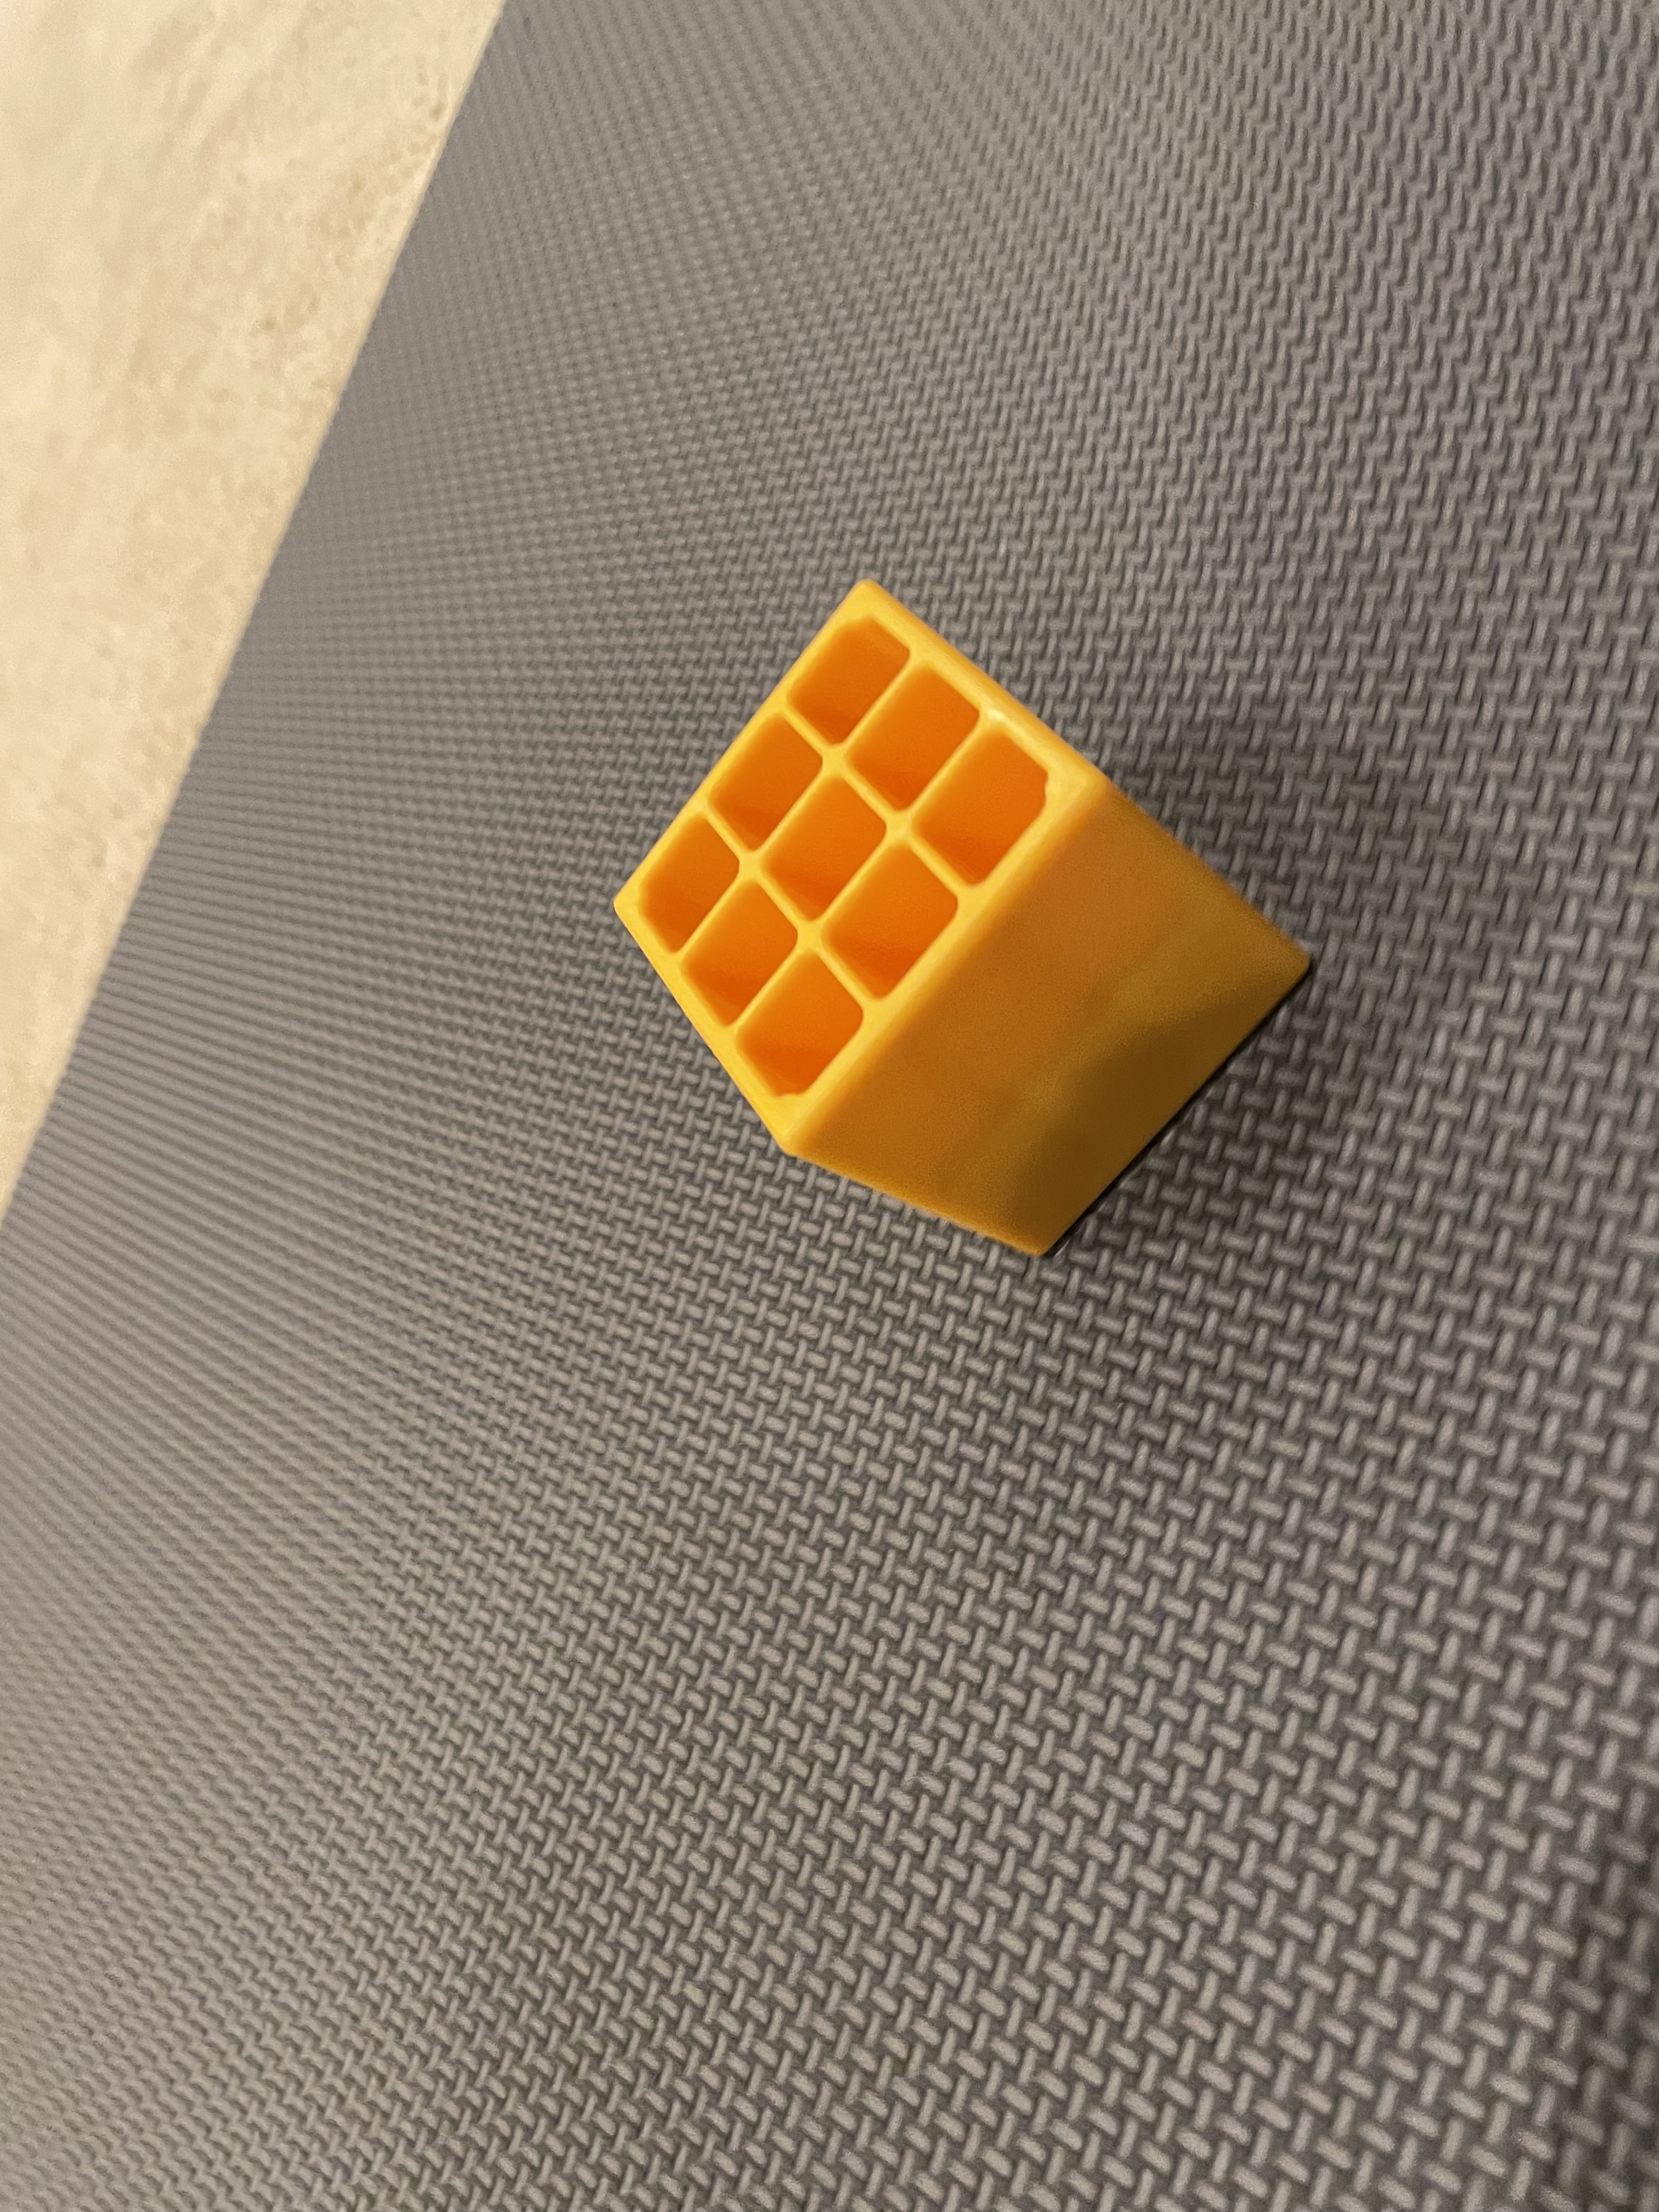cube: (545, 526, 1373, 1353)
